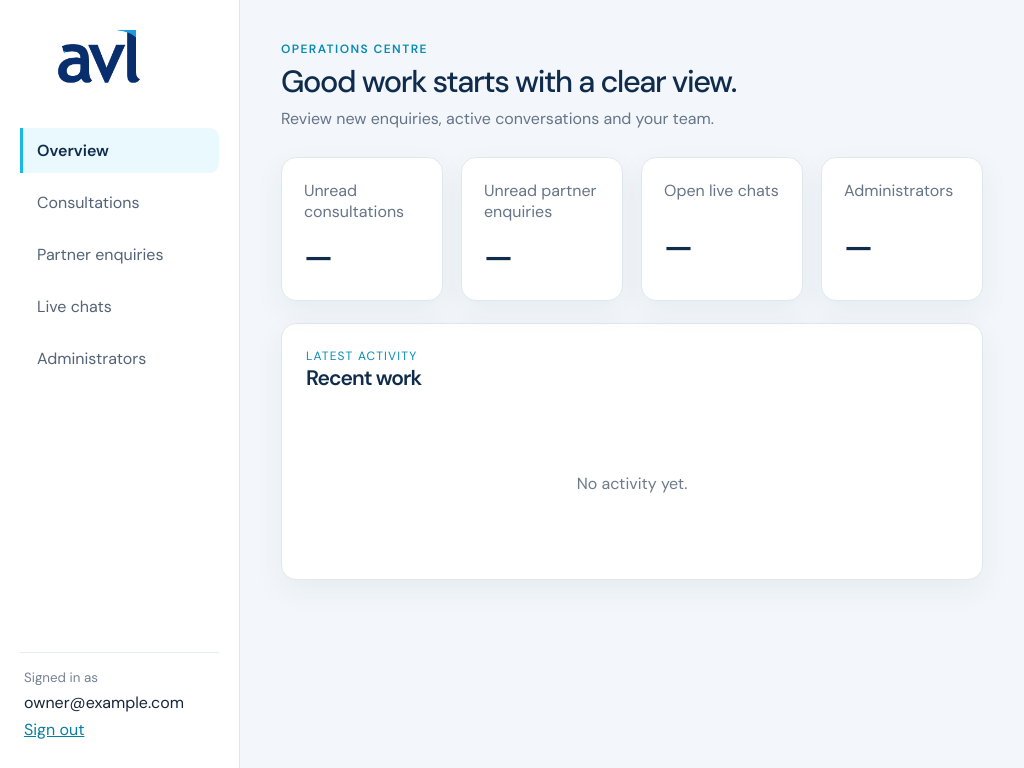
Scenario: AVL routed website › shows the authenticated empty inbox state
The width and height of the screenshot is (1024, 768).
Click the button "Consultations".
click(120, 202)  # box [20, 180, 219, 225]
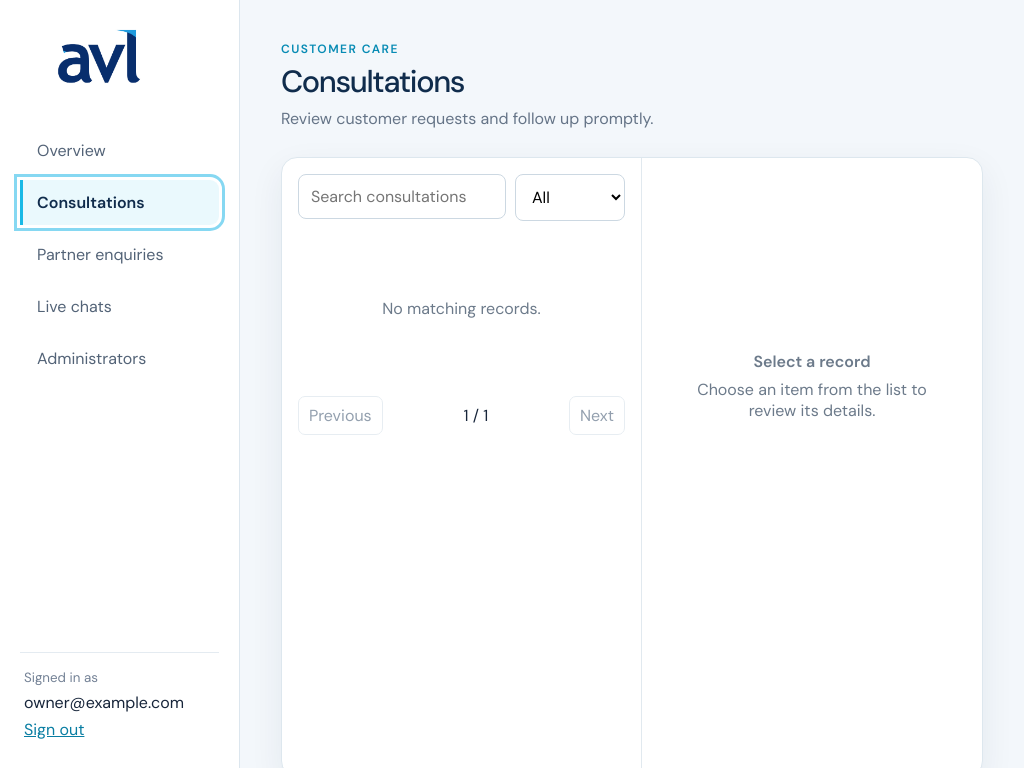
Expected: the text "No matching records." is shown, [382, 298, 541, 319]
